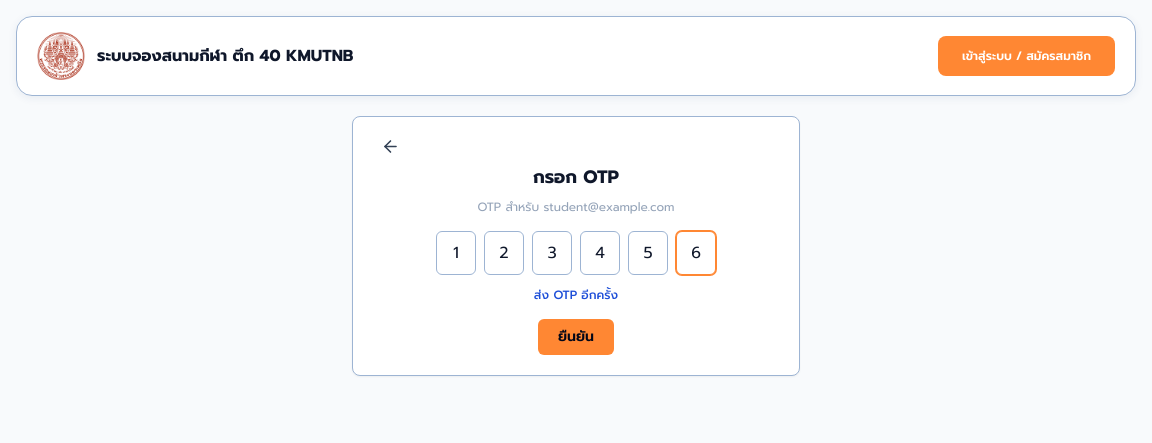
accepts a pasted code, supports keyboard navigation and refuses missing server proof
The image size is (1152, 443).
Press ArrowLeft in the field named "OTP หลักที่ 6", box [676,231,716,275]
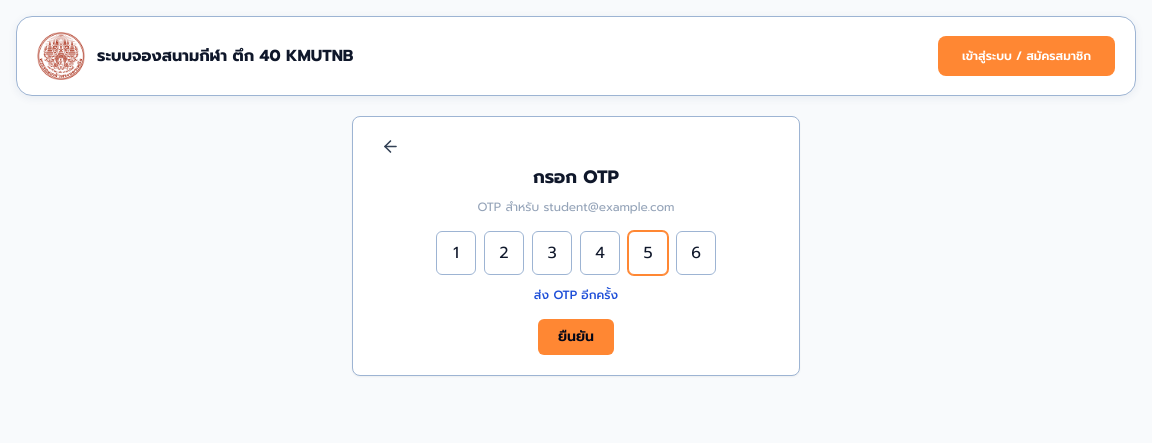
Press ArrowRight in the field named "OTP หลักที่ 5", box [628,231,668,275]
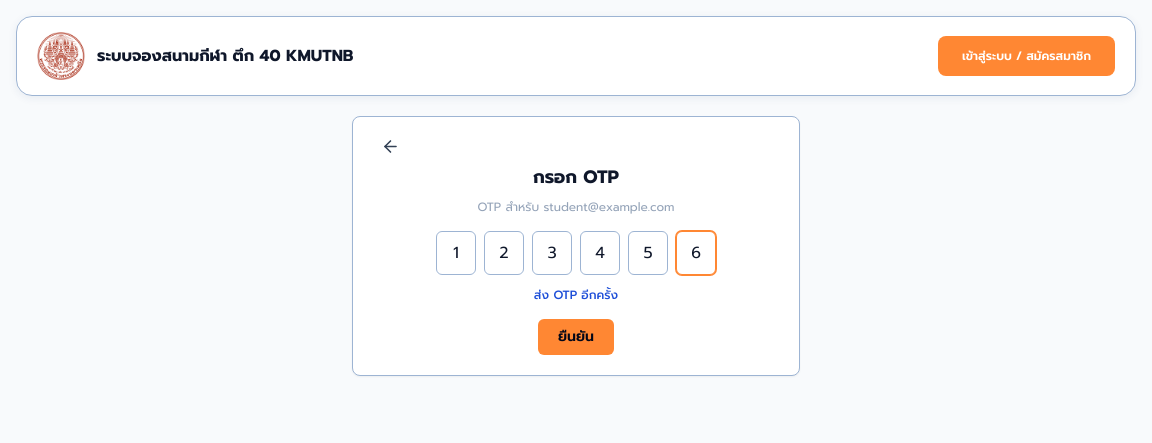
Click the button "ยืนยัน" at (576, 337), box [538,319,614,355]
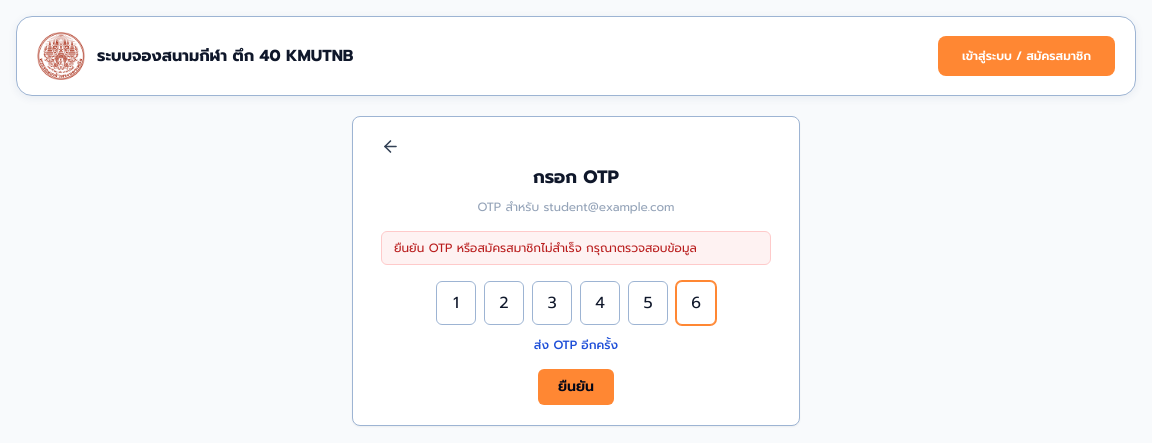
Expected: the message shows "ยืนยัน OTP", [394,239,697,257]
